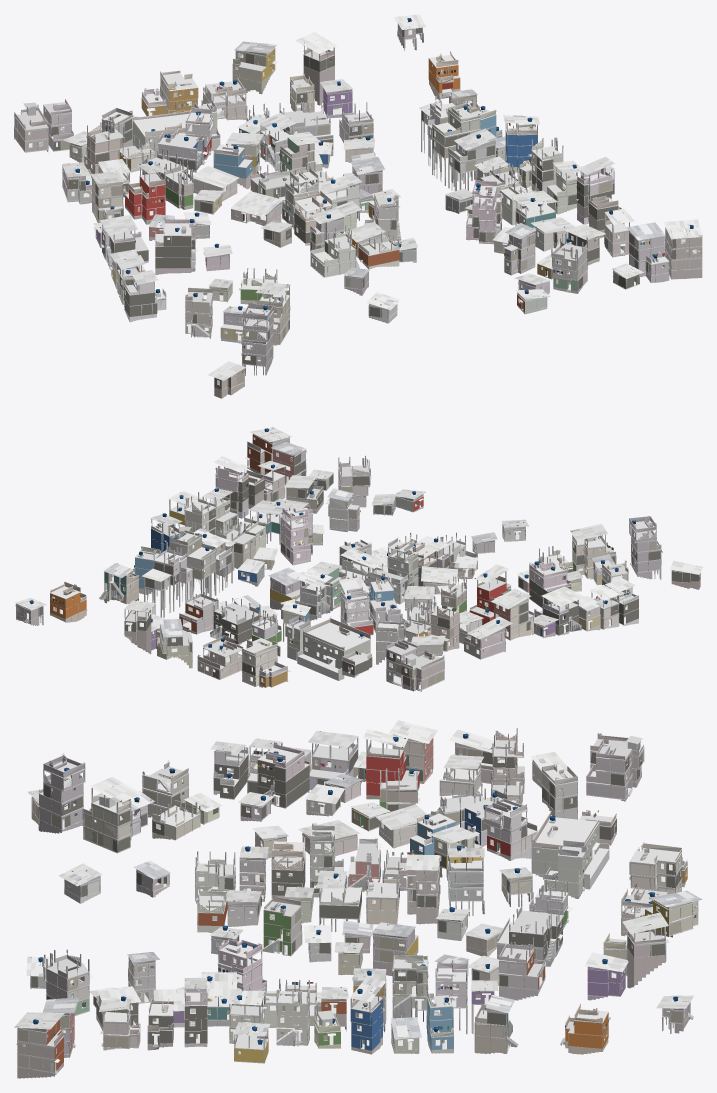
3 views of the same model, one above another, from view 1: azimuth 30°, elevation 25°; view 2: azimuth 150°, elevation 25°; view 3: azimuth 270°, elevation 25° (orthographic). The views are drawn at different scales.
Visible parts, largest first — view 1: T_26_25; view 2: T_26_25; view 3: T_26_25.
Boxes of the visible parts, x1,y1,x2,y2 form: T_26_25: (14,14,702,398); T_26_25: (14,427,702,691); T_26_25: (14,720,702,1078).
Size of the model in its own units: 136 by 27.94 by 137.
